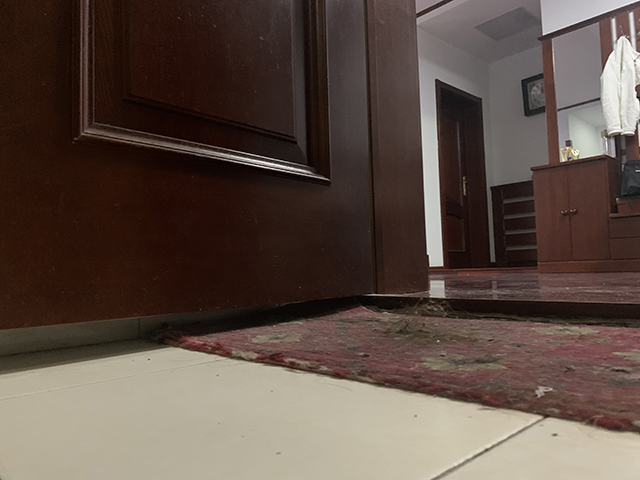cabinet: (530, 153, 640, 275)
carpet: (137, 304, 639, 437)
